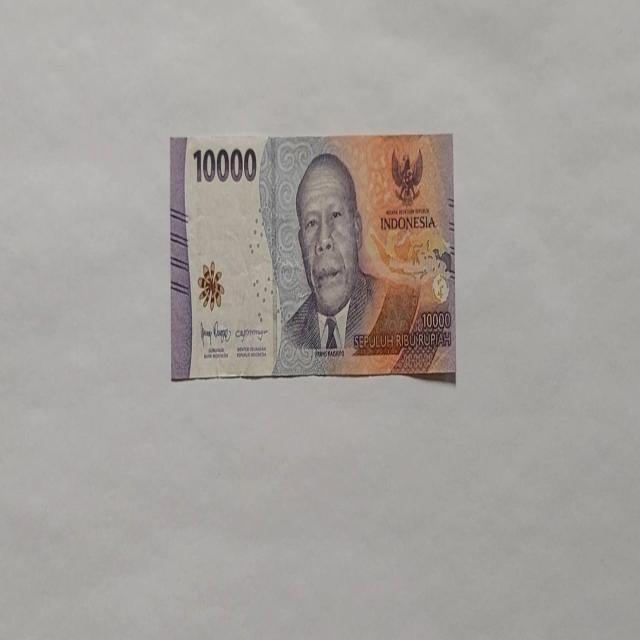Kertas: (170, 131, 456, 382), (192, 144, 258, 185)
